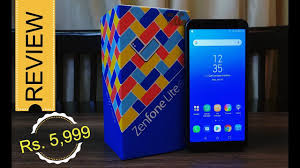asus: (180, 15, 255, 153)
